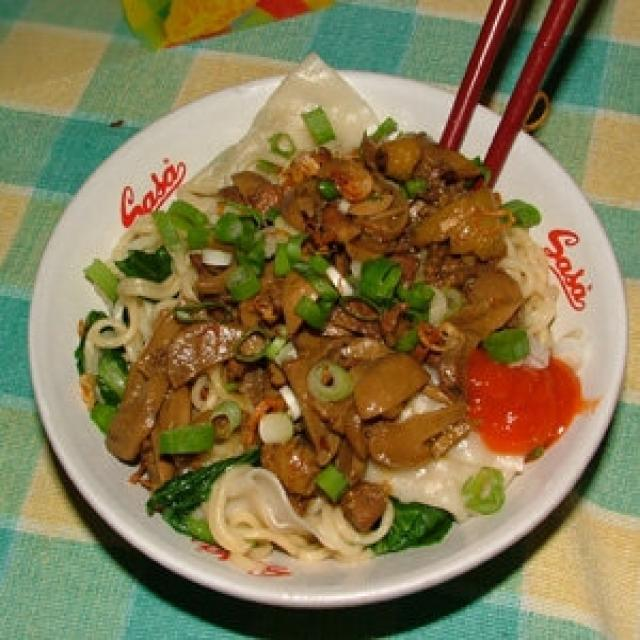面条主食: (45, 53, 621, 605)
